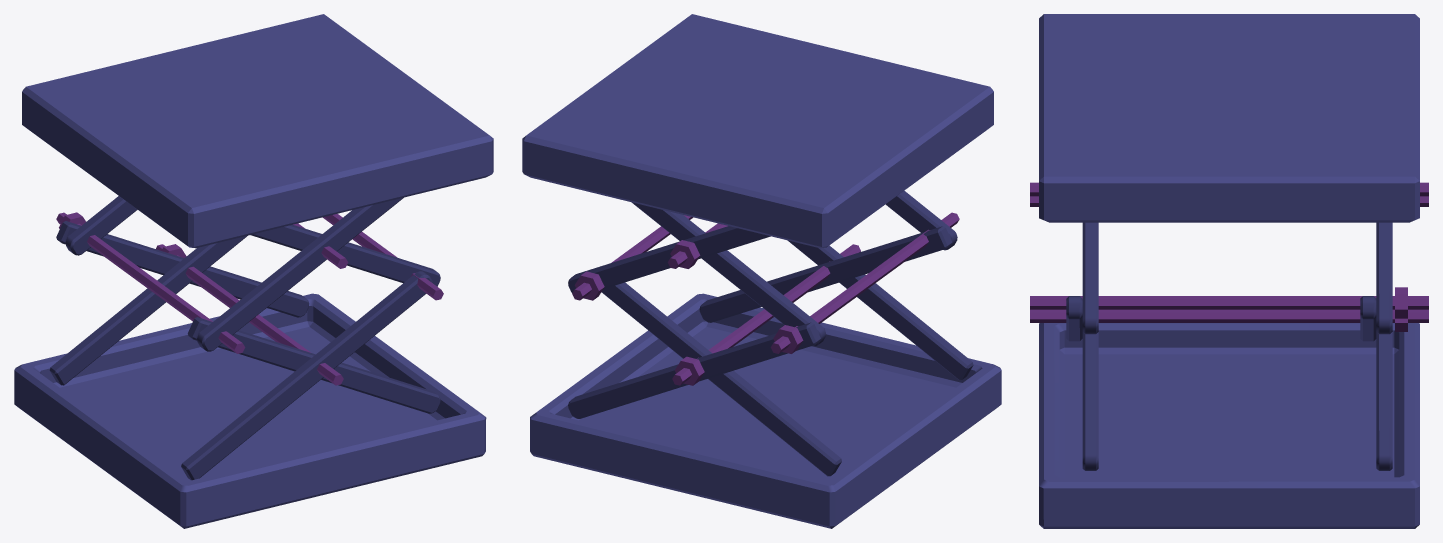
The model's file is active.fbx.
3 views of the same model, side by side, from view 1: azimuth 30°, elevation 25°; view 2: azimuth 150°, elevation 25°; view 3: azimuth 270°, elevation 25° (orthographic). The views are drawn at different scales.
Visible parts, largest first — view 1: head, bot, balka8, balka5, balka3, balka7, balka4, balka6, pin1, pin2, balka1, pin4; view 2: head, bot, balka3, balka4, balka7, balka1, balka8, balka2, pin1, pin2, balka5, pin4 (+1 smaller); view 3: head, bot, pin4, pin2, balka4, balka7, balka2, balka6, balka3, balka8.
Boxes of the visible parts, x1,y1,x2,y2 form: head: (22, 14, 493, 248); bot: (14, 293, 486, 528); balka8: (181, 271, 432, 480); balka5: (197, 197, 403, 351); balka3: (49, 235, 247, 385); balka7: (187, 317, 440, 413); balka4: (56, 221, 309, 317); balka6: (250, 224, 440, 286); pin1: (56, 212, 245, 353); pin2: (156, 244, 343, 385); balka1: (65, 196, 137, 255); pin4: (322, 214, 443, 300); head: (522, 14, 993, 248); bot: (530, 293, 1001, 528); balka3: (601, 282, 841, 476); balka4: (568, 322, 820, 418); balka7: (699, 226, 952, 322); balka1: (632, 202, 825, 346); balka8: (787, 240, 973, 380); balka2: (568, 226, 770, 292); pin1: (770, 212, 959, 353); pin2: (672, 244, 860, 385); balka5: (885, 190, 957, 250); pin4: (572, 215, 693, 300); head: (1039, 14, 1419, 222); bot: (1039, 323, 1419, 528); pin4: (1030, 287, 1428, 318); pin2: (1030, 309, 1428, 331); balka4: (1376, 332, 1392, 470); balka7: (1082, 332, 1098, 470); balka2: (1376, 222, 1392, 334); balka6: (1082, 222, 1098, 334); balka3: (1360, 296, 1376, 341); balka8: (1066, 296, 1082, 341).
Bounding box in the file's own units: 305 × 296 × 300.
